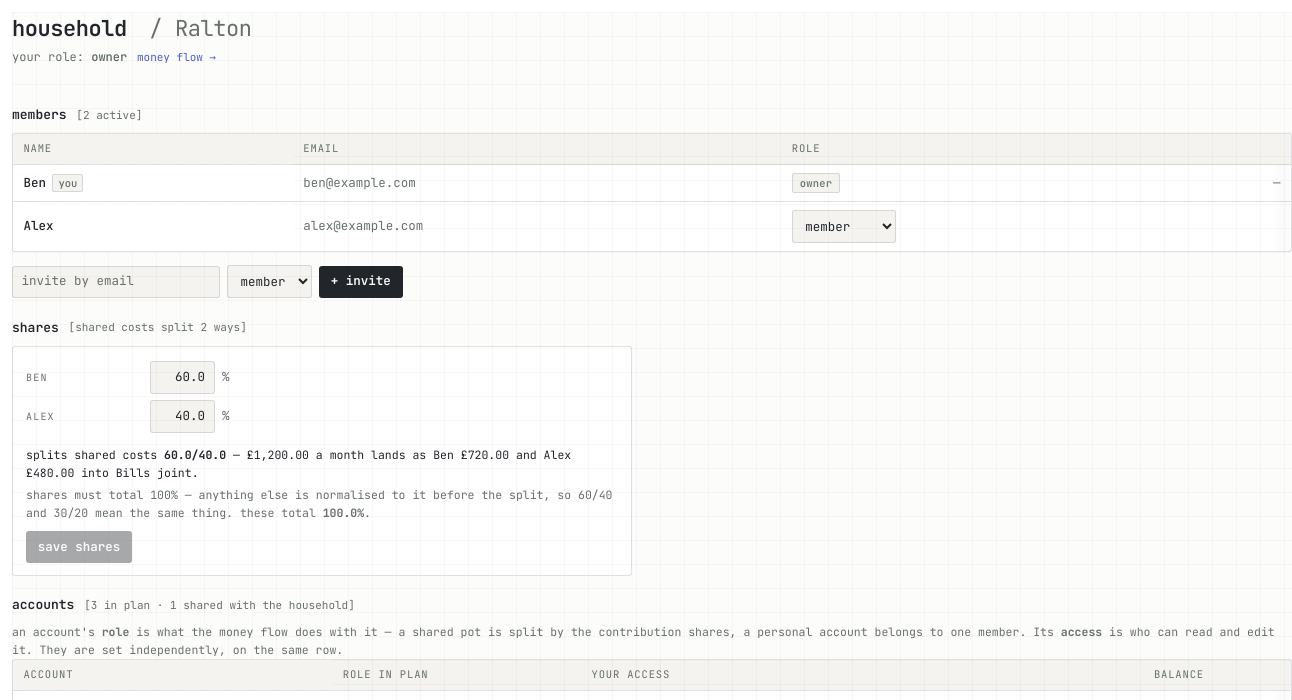
HouseholdDetailPage — the shares block › follows the inputs before anything is saved
Step 1. Replace the text in the field named "Ben's share of shared costs, percent" with "70" → (182, 378), box 150,362 -> 214,394
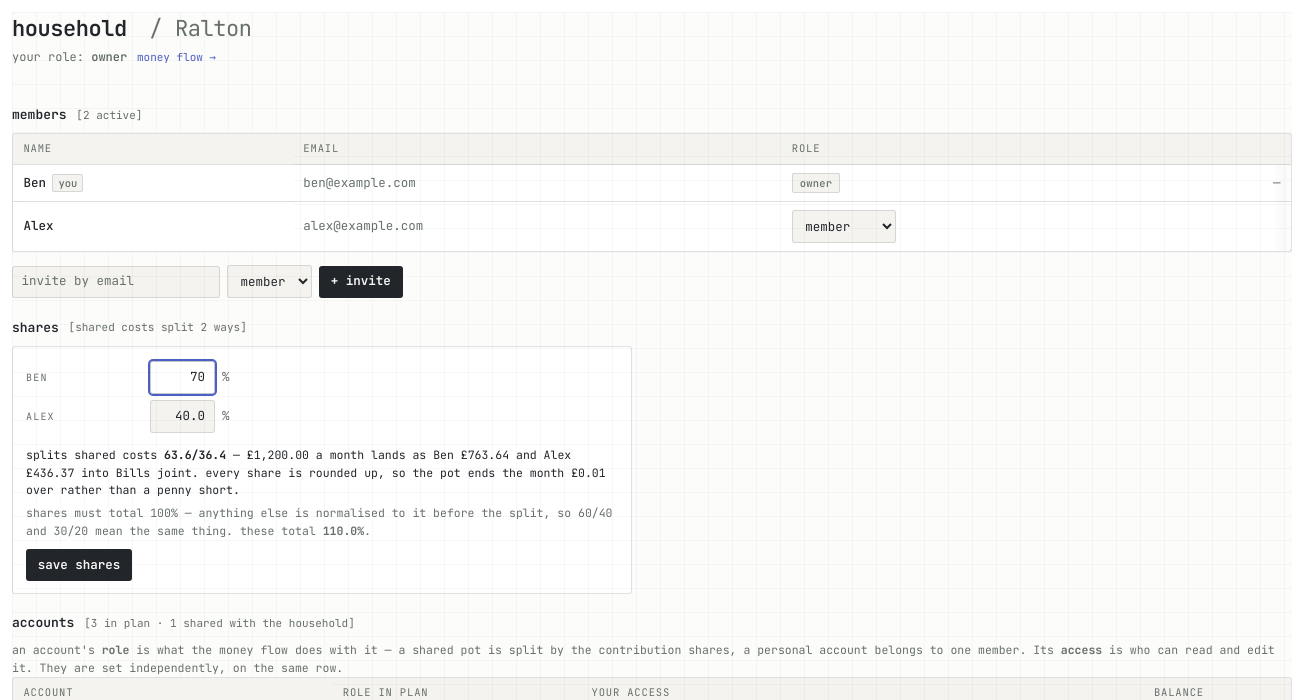
Step 2. Replace the text in the field named "Alex's share of shared costs, percent" with "30" → (182, 417), box 150,400 -> 214,433
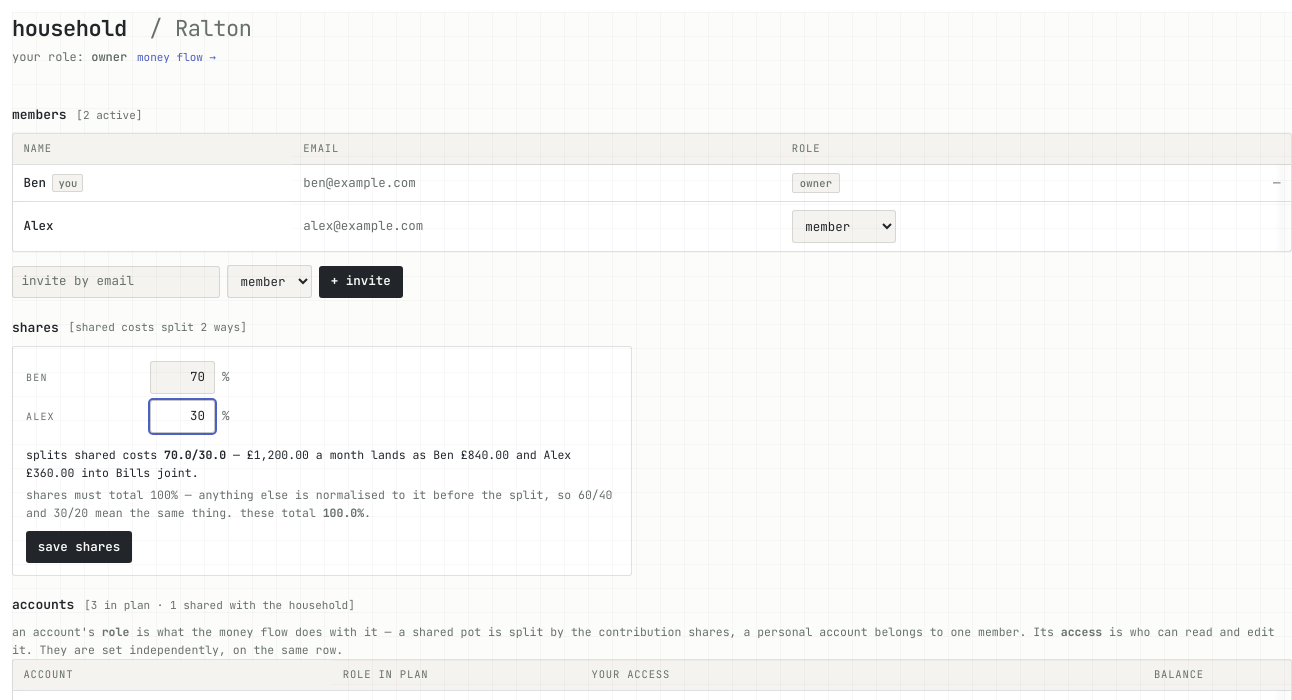
Expected: the text "splits shared costs" shows "splits shared costs 70.0/30.0 — £1,200.00 a month lands as Ben £840.00 and Alex £360.00 into Bills joint.", 26,446 -> 618,481
